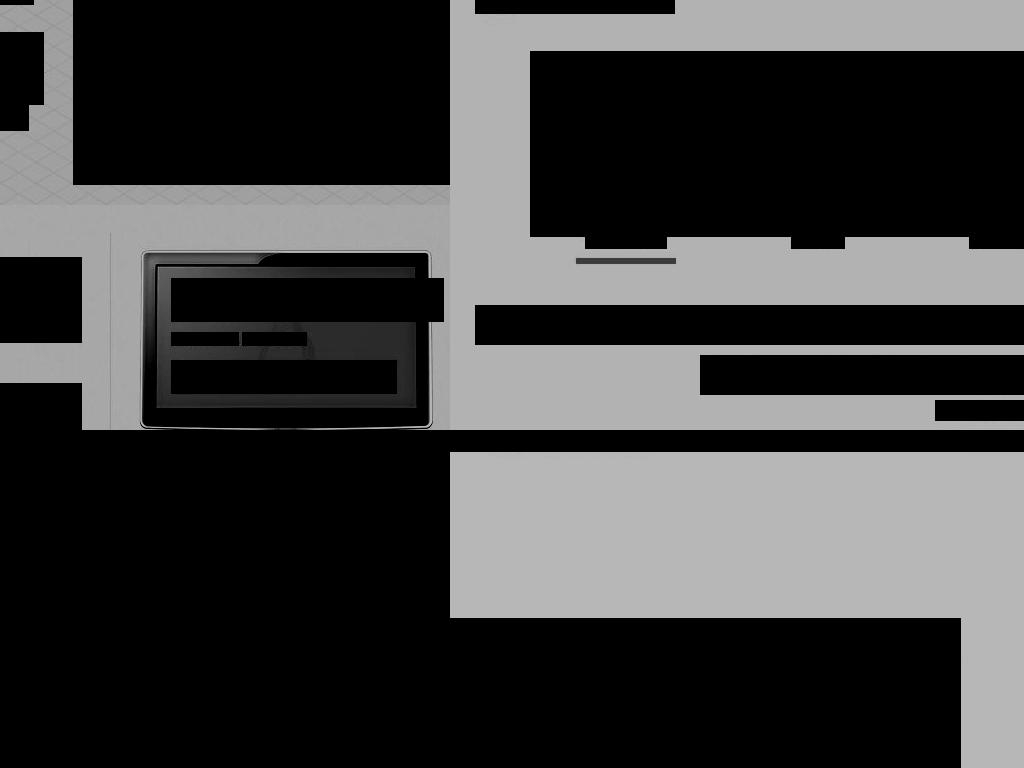button: (530, 51, 722, 237), (722, 51, 914, 237), (914, 51, 1024, 237), (71, 614, 351, 668), (450, 430, 1024, 452), (171, 360, 397, 394), (0, 257, 82, 343), (475, 0, 675, 14), (935, 400, 1024, 421), (895, 430, 962, 449), (966, 430, 1024, 449)
heading: (450, 618, 961, 768), (0, 482, 450, 594), (475, 305, 1024, 345), (171, 278, 444, 300), (0, 257, 82, 290), (0, 383, 82, 416)
image: (0, 430, 450, 768), (73, 0, 450, 185), (561, 68, 691, 198), (753, 68, 883, 198), (945, 68, 1024, 198), (475, 0, 675, 14)
link: (0, 290, 82, 341), (171, 332, 239, 346)
text: (700, 355, 1024, 395), (171, 300, 444, 322), (585, 227, 667, 249), (963, 400, 1024, 421), (969, 227, 1024, 249), (791, 227, 845, 249), (242, 332, 307, 346)
